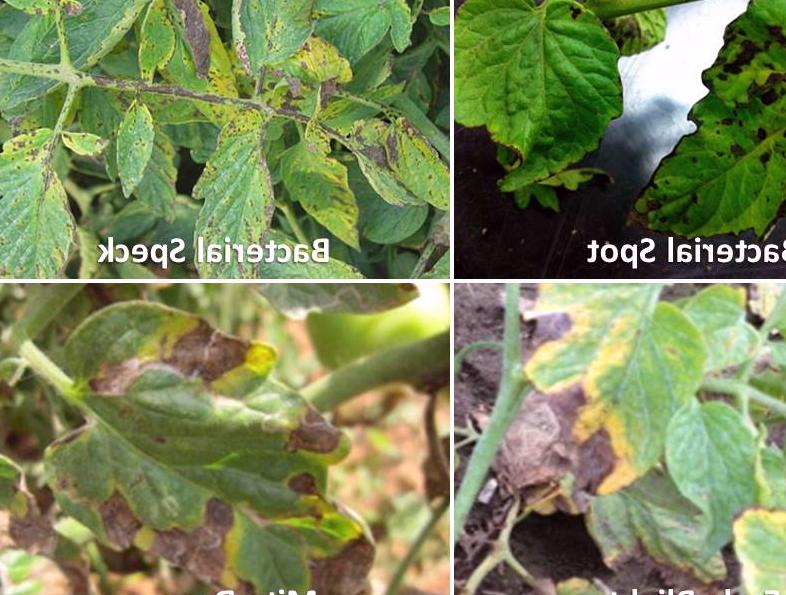Tomato Early blight leaf: (508, 294, 786, 595)
Tomato leaf bacterial spot: (456, 0, 651, 221), (632, 0, 786, 260), (5, 0, 201, 116), (185, 86, 292, 274), (0, 118, 116, 271), (221, 0, 335, 92), (96, 79, 167, 196), (131, 0, 182, 77)
